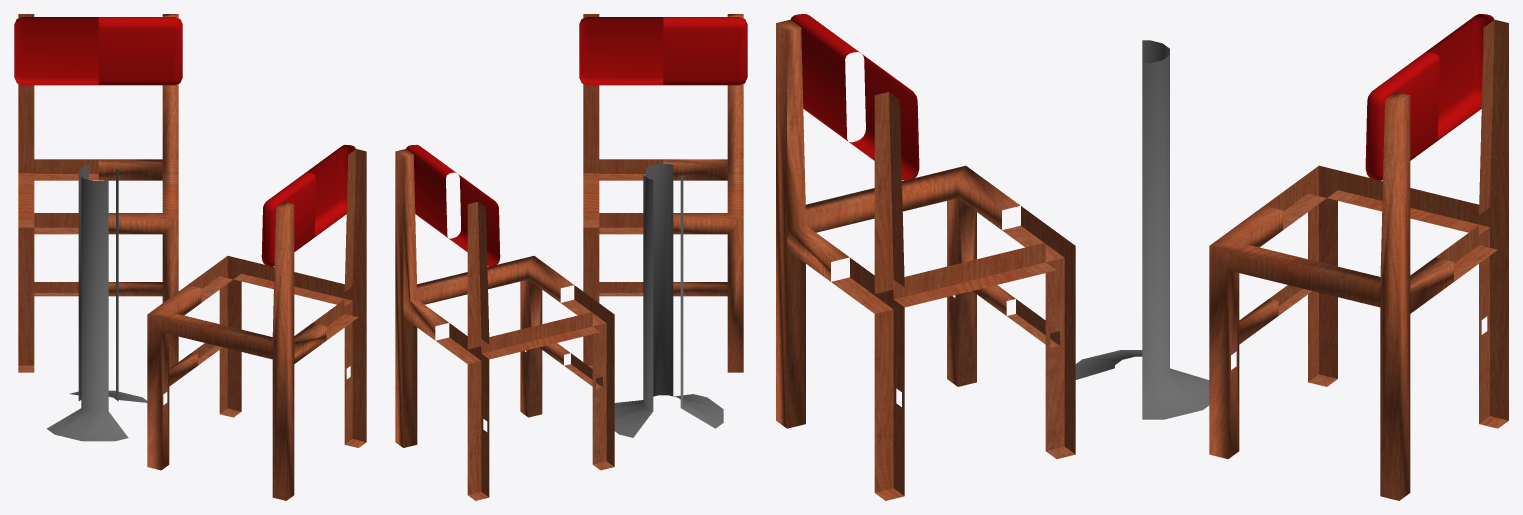
File: o3_tavolo_bar_sedie.glb
3 renders of one model, left to right at view 1: azimuth 30°, elevation 25°; view 2: azimuth 150°, elevation 25°; view 3: azimuth 270°, elevation 25°, orthographic. The views are drawn at different scales.
Parts seen in each view (by area): view 1: sb_modello; view 2: sb_modello; view 3: sb_modello.
Boxes of the visible parts, <box> form: sb_modello: <box>14,14,366,500</box>; sb_modello: <box>395,14,747,500</box>; sb_modello: <box>776,14,1508,500</box>.
Size of the model in its own units: 0.7634 by 0.95 by 1.57.
3 materials, 1 textured.
